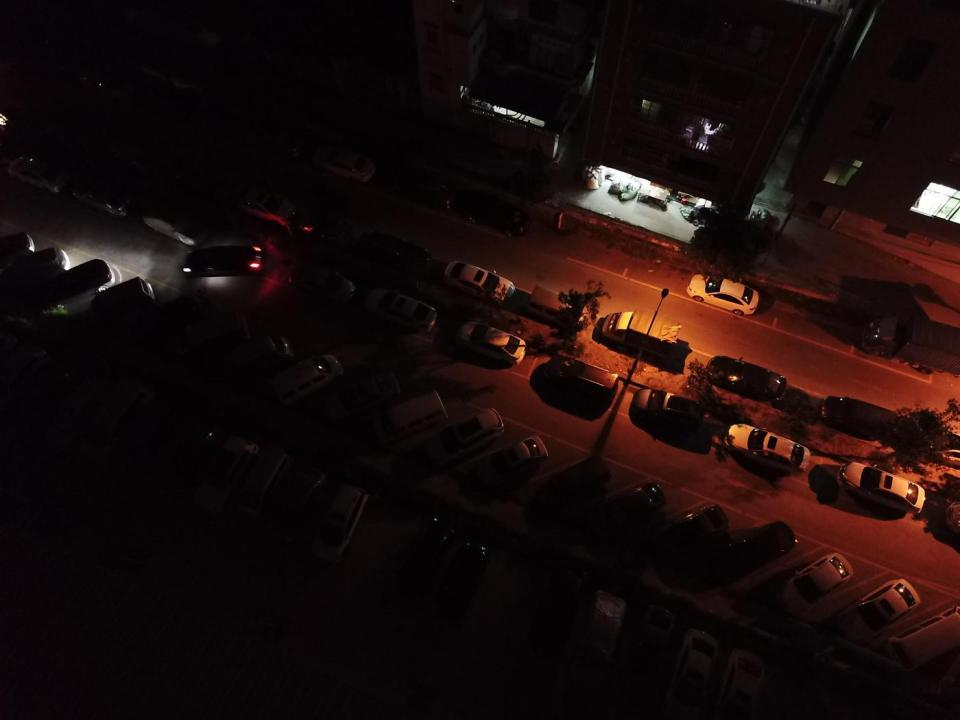car: (821, 577, 921, 647), (570, 589, 627, 700), (693, 520, 796, 581), (620, 604, 678, 706), (522, 455, 612, 518), (95, 383, 160, 466), (260, 351, 348, 412), (235, 447, 295, 536), (434, 535, 489, 631), (416, 406, 505, 465), (310, 480, 372, 564), (266, 464, 325, 552), (665, 629, 722, 720), (401, 517, 456, 611), (469, 433, 550, 493), (836, 461, 926, 515), (199, 436, 254, 521), (211, 332, 296, 386), (779, 552, 855, 612), (581, 481, 667, 534), (724, 423, 809, 473), (36, 258, 115, 310), (653, 503, 729, 557), (714, 648, 770, 720), (0, 246, 72, 301), (705, 356, 788, 402), (541, 355, 618, 404), (356, 231, 433, 280), (818, 395, 900, 441), (629, 388, 707, 435), (72, 168, 144, 217), (364, 286, 439, 333), (456, 193, 532, 239), (142, 196, 211, 246), (287, 261, 357, 309), (444, 259, 516, 305), (686, 272, 759, 317), (457, 321, 526, 366), (311, 138, 379, 182), (231, 185, 297, 228), (182, 246, 265, 277), (7, 154, 70, 194)
truck: (858, 312, 960, 376), (599, 310, 681, 357)
van: (886, 604, 960, 667), (366, 390, 448, 446), (525, 284, 590, 332), (88, 276, 156, 321)
